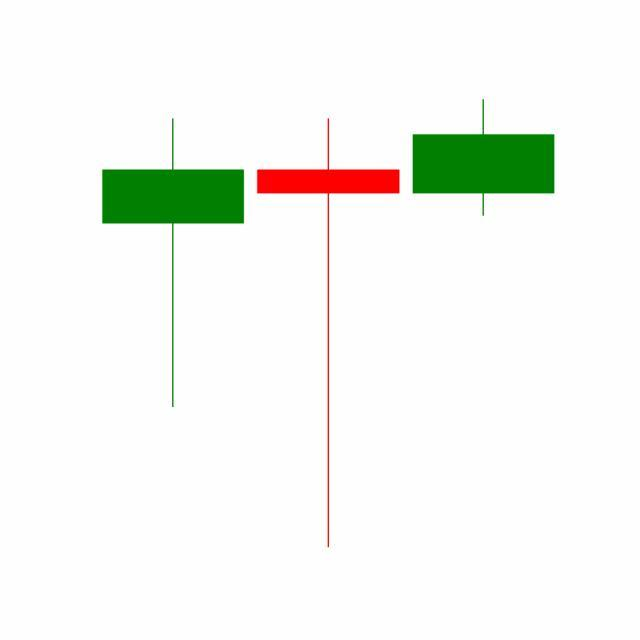Spinning Top: (250, 115, 407, 554)
